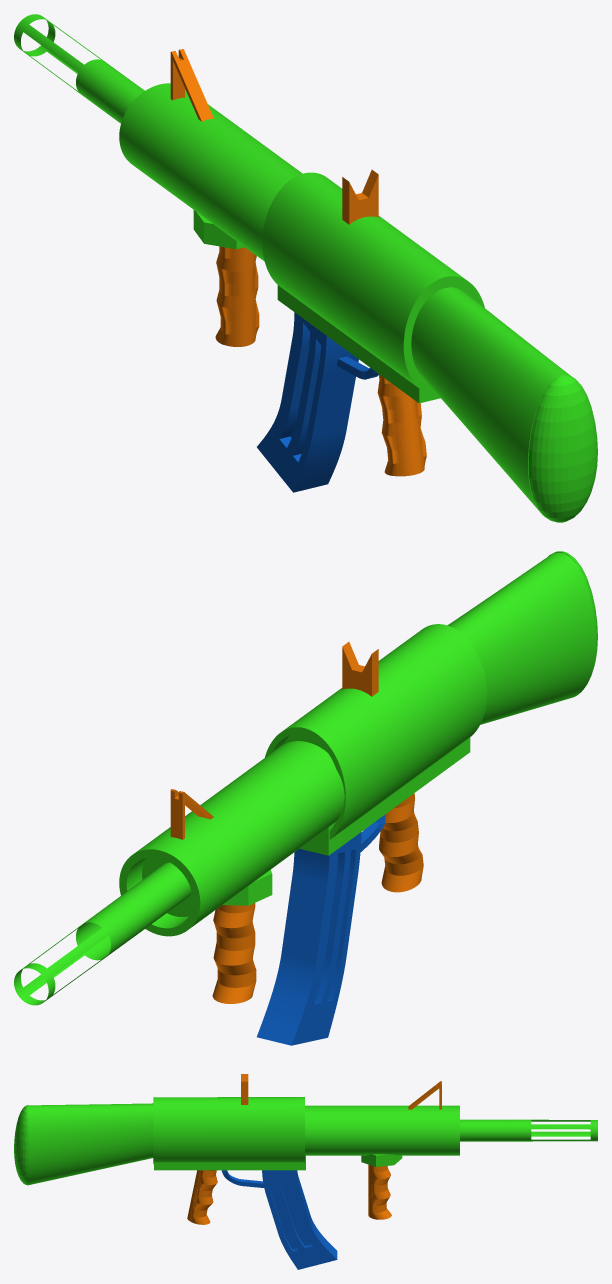
Rendered from RifleGun.fbx.
3 renders of one model, top to bottom at view 1: azimuth 30°, elevation 25°; view 2: azimuth 150°, elevation 25°; view 3: azimuth 270°, elevation 25°, orthographic. The views are drawn at different scales.
Parts seen in each view (by area): view 1: aRMA; view 2: aRMA; view 3: aRMA.
Part boxes in pixels (<box>): aRMA: <box>14,14,597,522</box>; aRMA: <box>14,551,597,1045</box>; aRMA: <box>14,1074,597,1269</box>.
Bounding box in the file's own units: 148 × 591 × 1667.
1 material, 1 textured.
